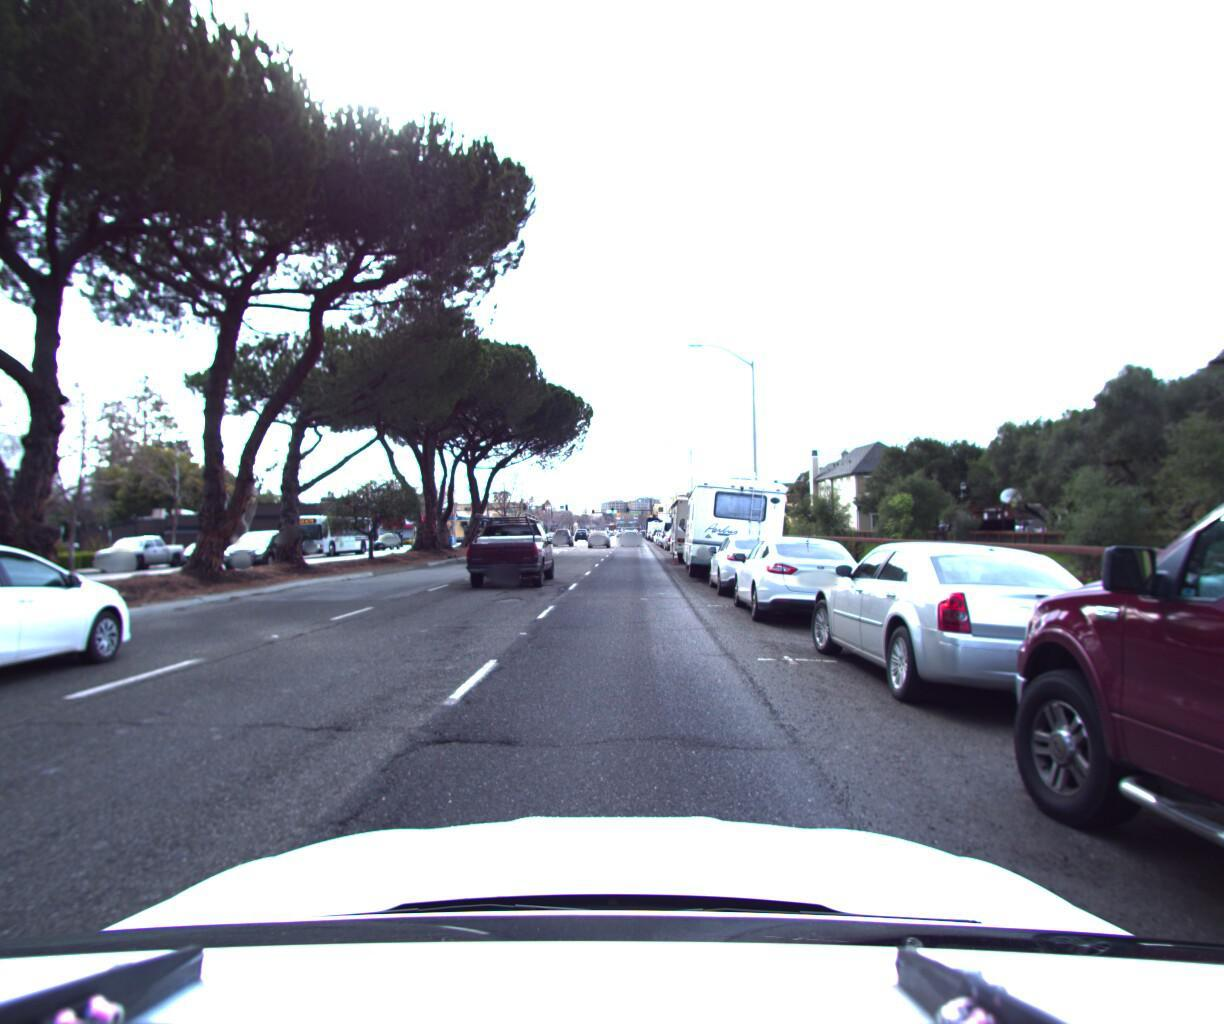bus: (278, 517, 379, 561)
car: (800, 534, 1167, 736), (0, 533, 159, 739), (731, 532, 881, 634), (462, 511, 556, 593), (709, 532, 805, 603), (95, 536, 194, 577), (217, 530, 306, 571), (663, 515, 691, 549), (586, 530, 610, 550), (552, 528, 576, 546), (621, 531, 641, 548)
other_vehicle: (683, 470, 791, 589), (670, 498, 742, 569)
